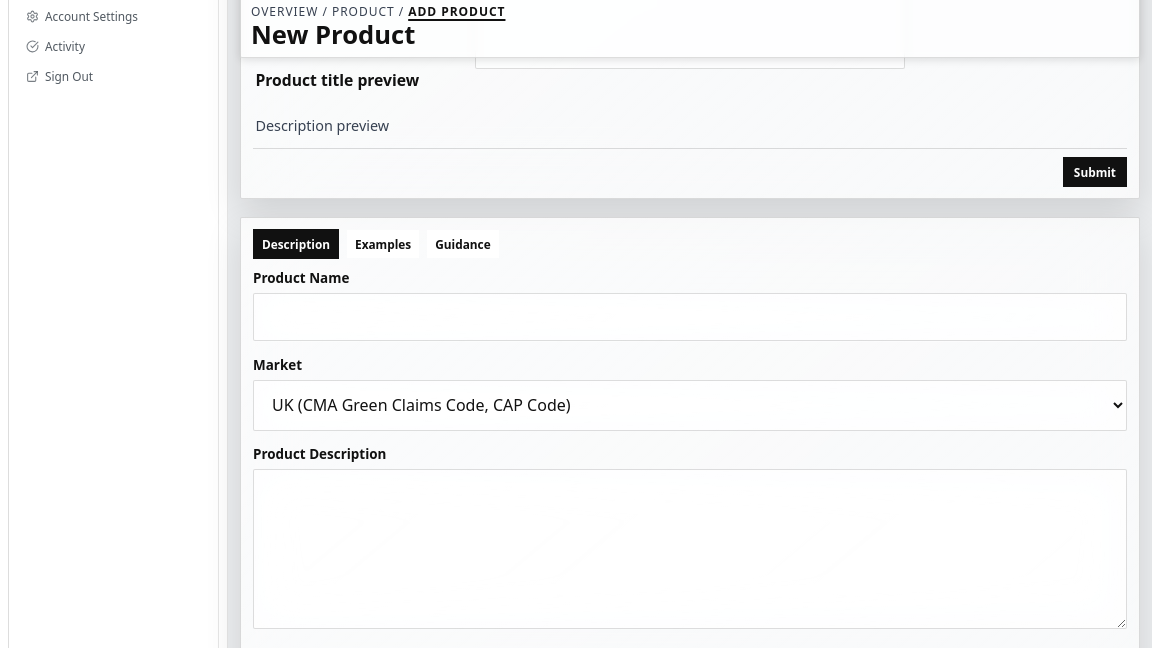
Scenario: a Copywriter › the draft saves itself: the product is created once and the text saved with its market
(page scrolled)
Type "Linen dress" into the field labelled "Product Name" at (690, 317), box [253,292,1127,341]
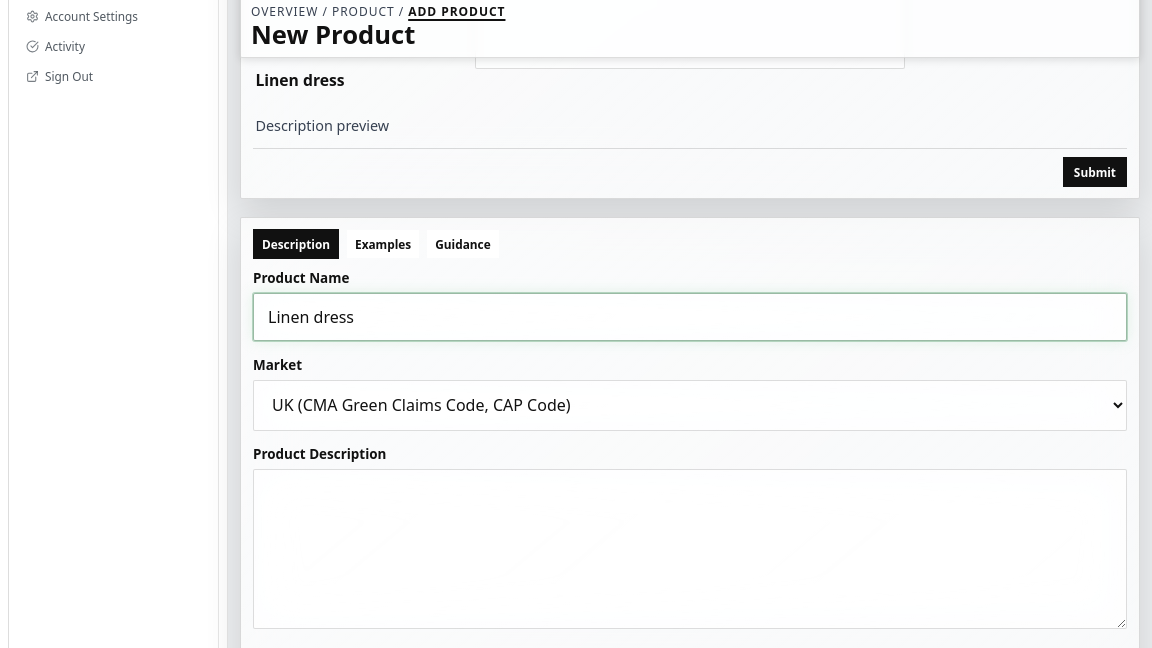
Type "A soft linen dress for every day." into the text box labelled "Product Description" at (690, 549), box [253,469,1127,629]
(page scrolled)
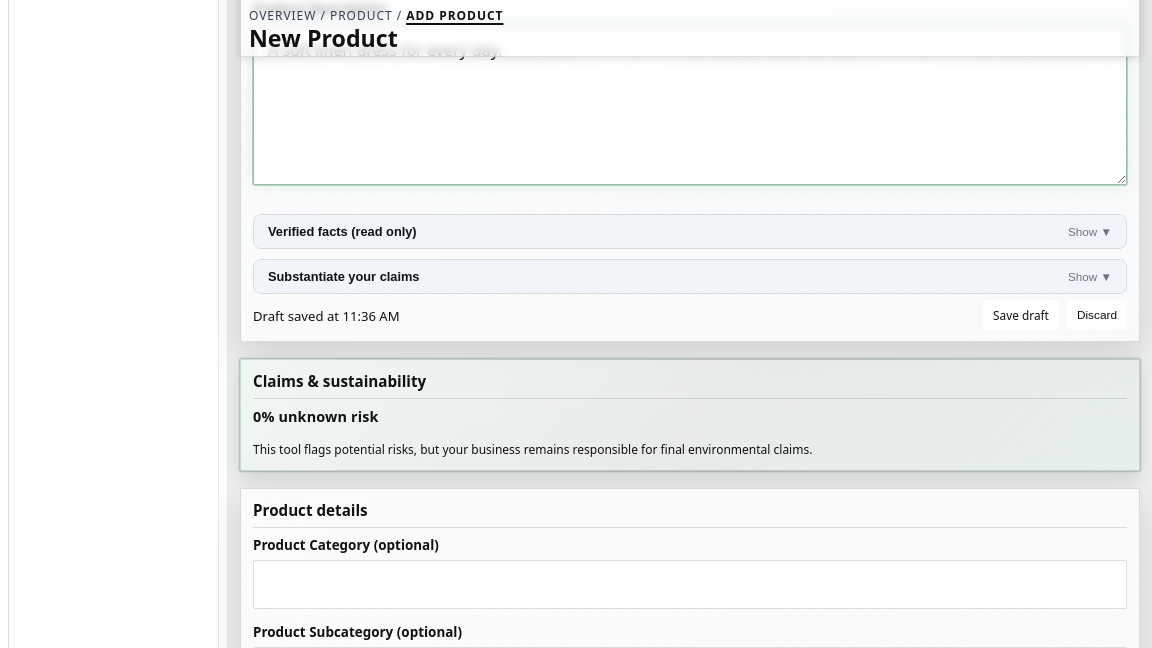
Result: the text "Draft saved at 11:36 AM" is shown at [253,307,400,325]
